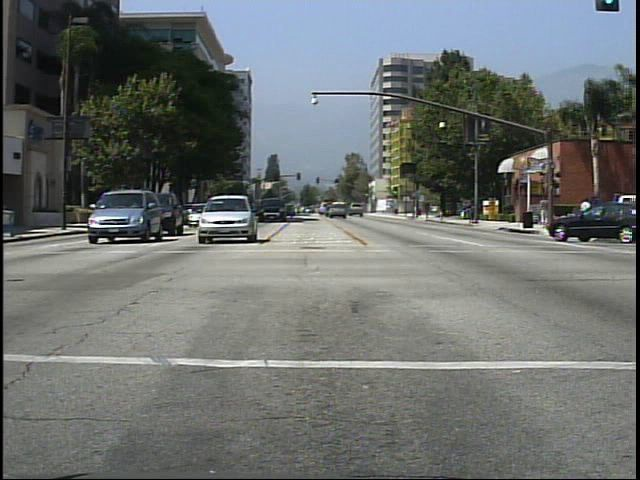person: (577, 193, 600, 237), (537, 193, 551, 238)
